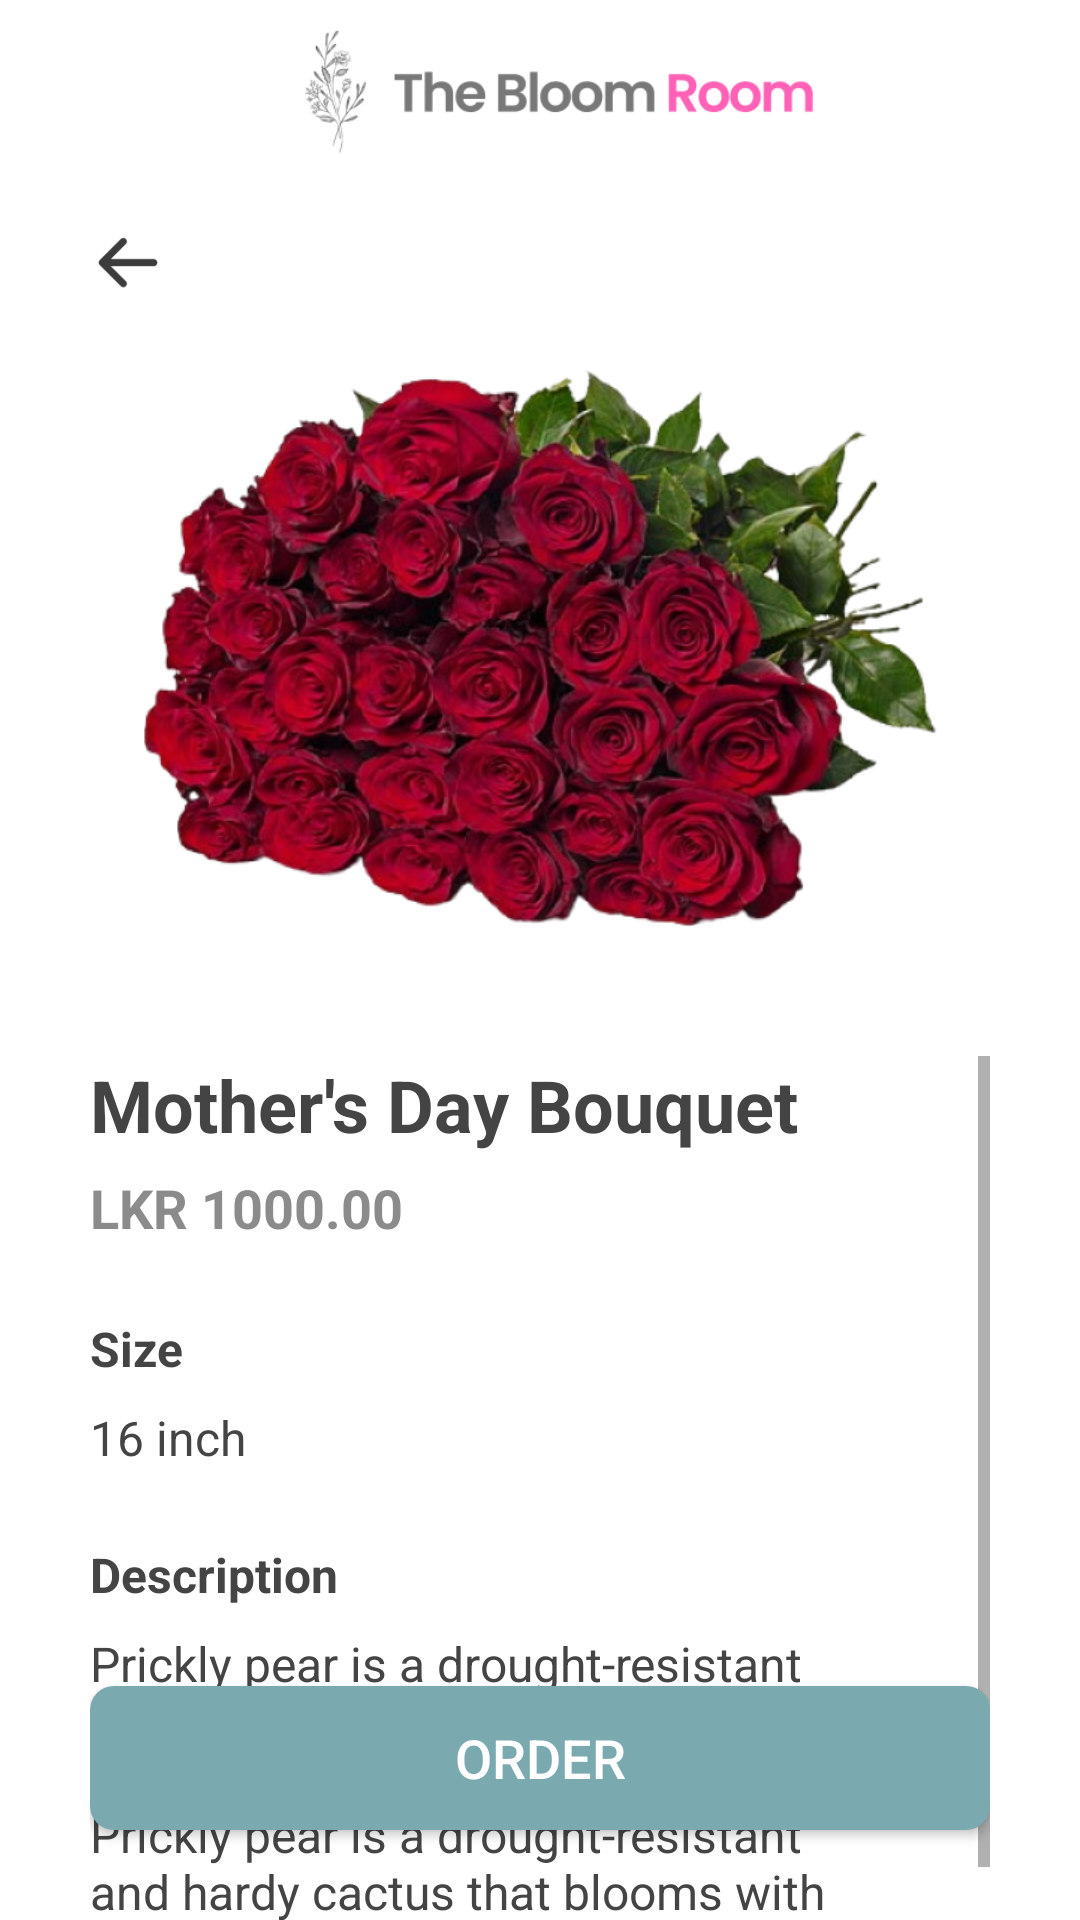

Where icons sit on this 1080px×1920px app screen, as bbox=[x1, y1, x2, y2]:
back: bbox=[98, 237, 158, 288]
